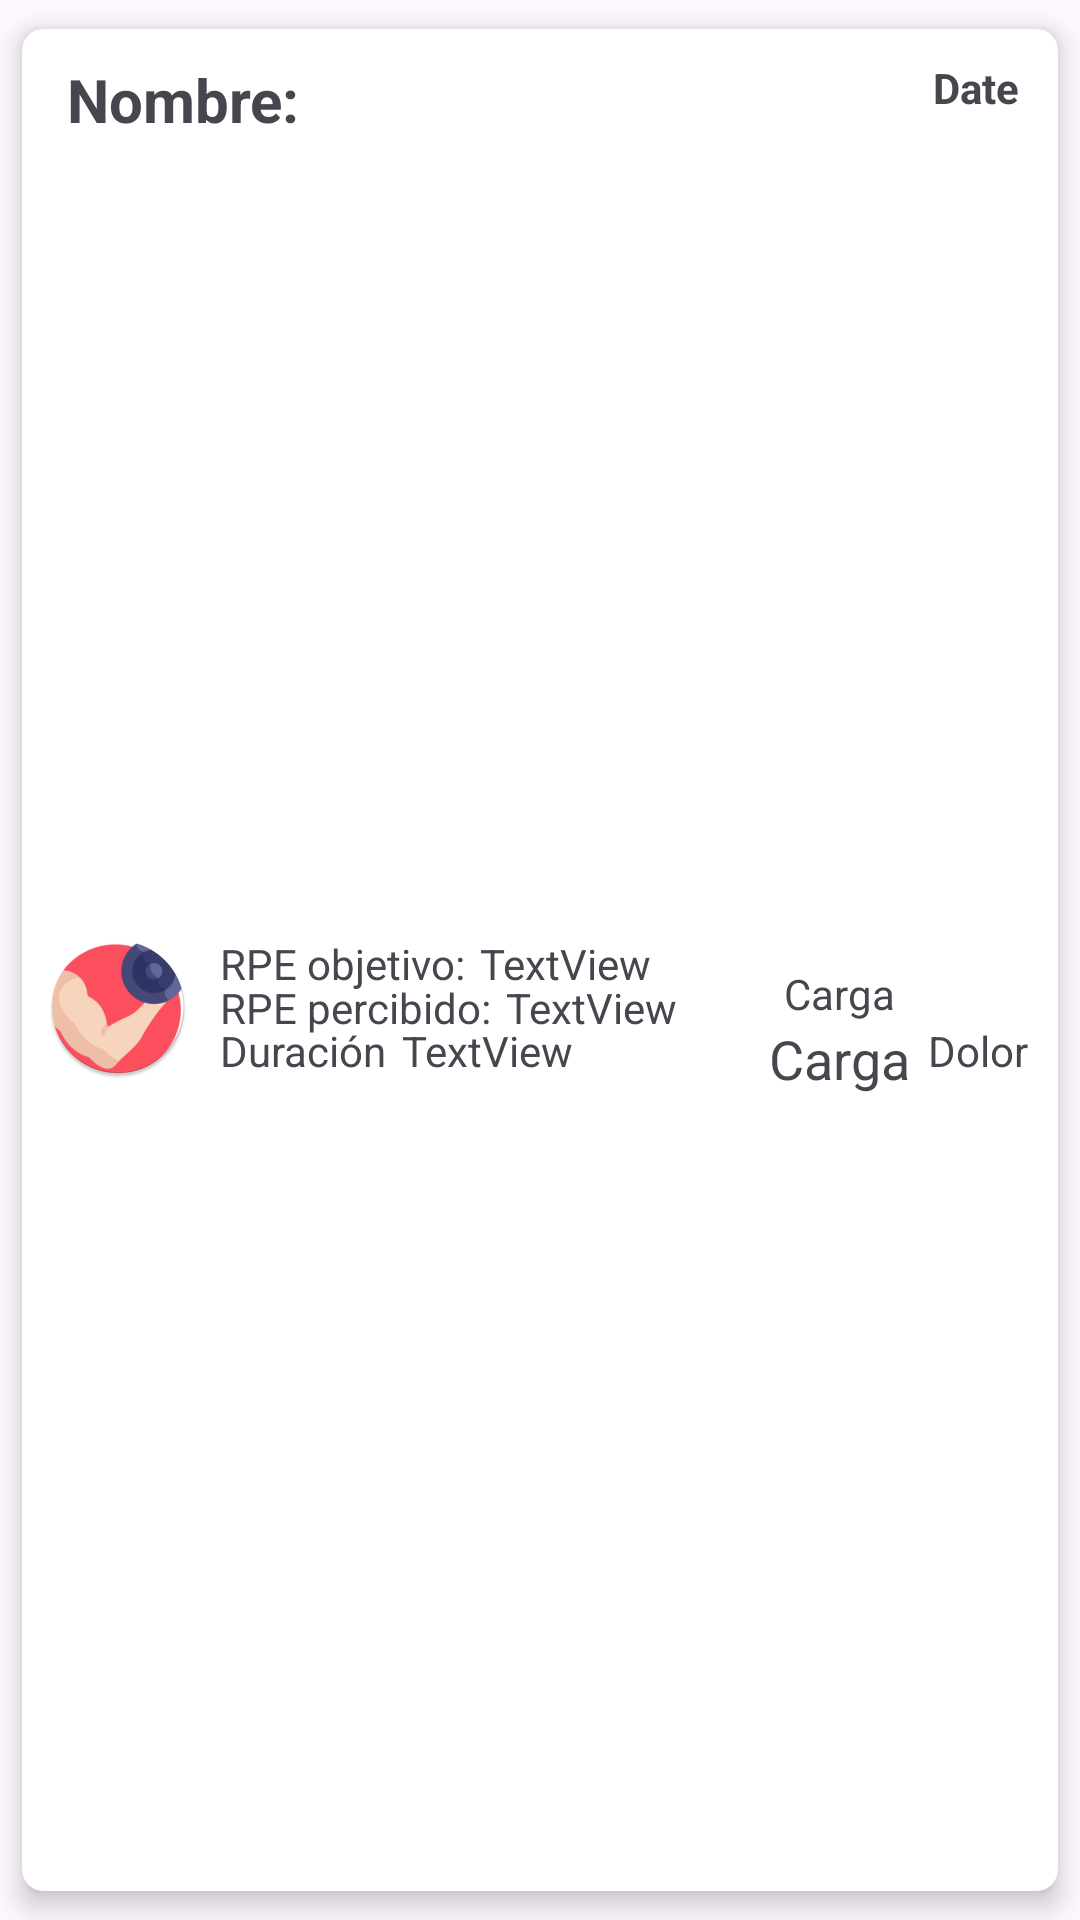

Icon bounding boxes for this 1080×1920 phone screenshot, format (x1, y1, x2, y2):
ejercicio fuerza: (51, 943, 185, 1076)
